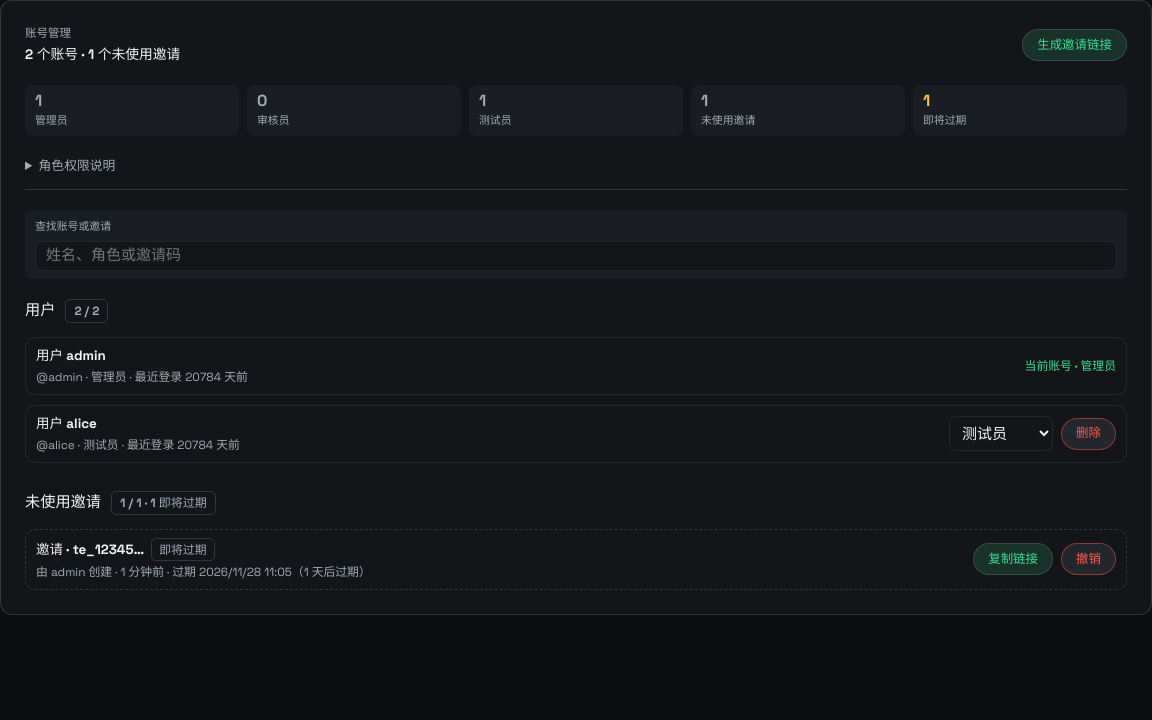
Test case: AccountManagement › clears an earlier mutation error after an authoritative success and refresh
This screenshot has width=1152, height=720.
Select "审核员" in the dropdown named "alice 的角色": [1001, 434] box [949,416,1053,451]
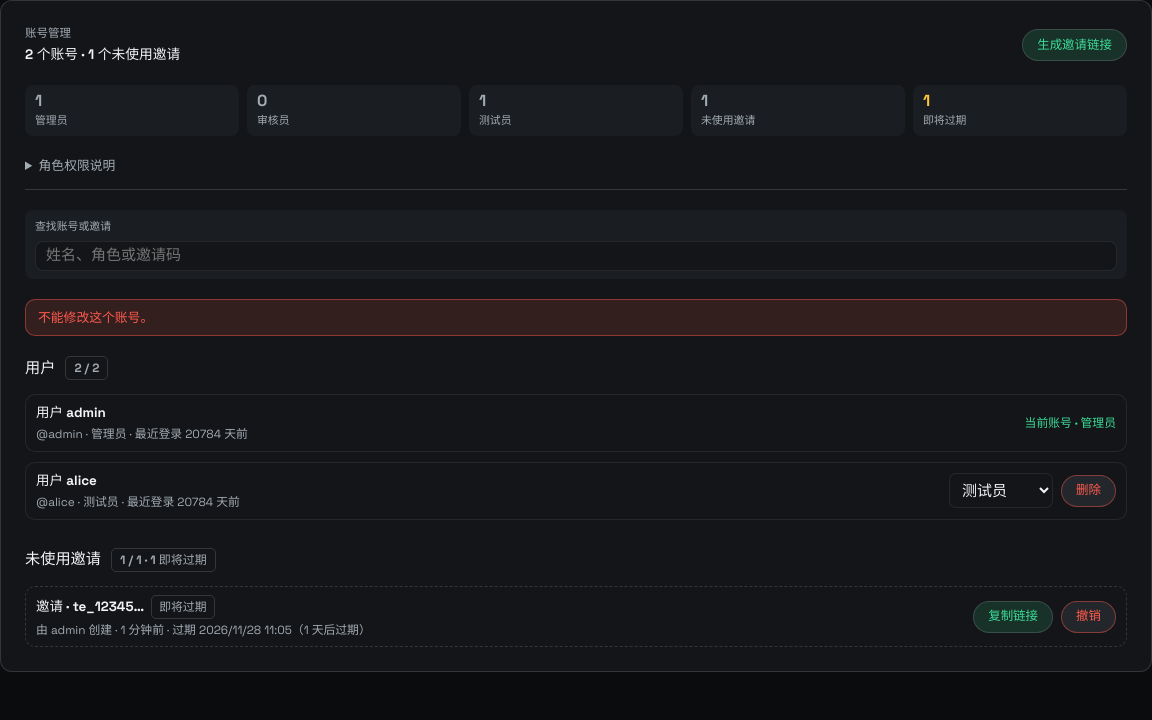
Now the text "不能修改这个账号。" is shown, box [25,299,1127,336]
Select "审核员" in the dropdown named "alice 的角色": [1001, 491] box [949,473,1053,508]
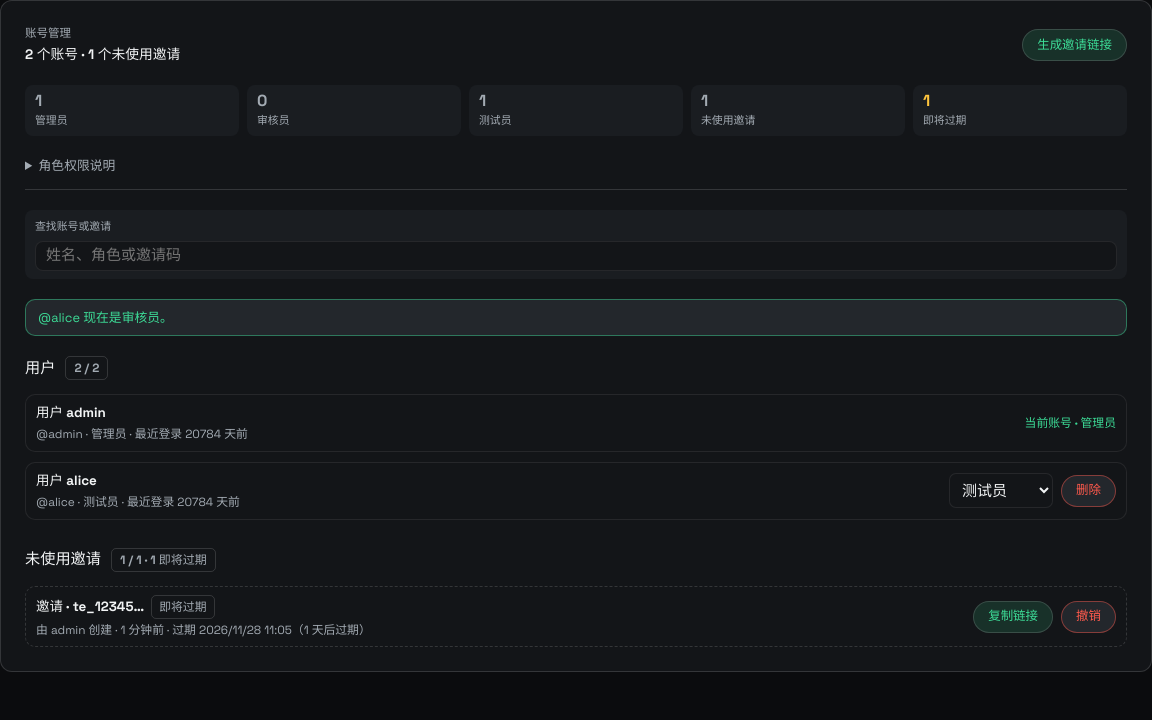
Now the text "不能修改这个账号。" is gone
Now the text "@alice 现在是审核员。" is shown, box [25,299,1127,336]
